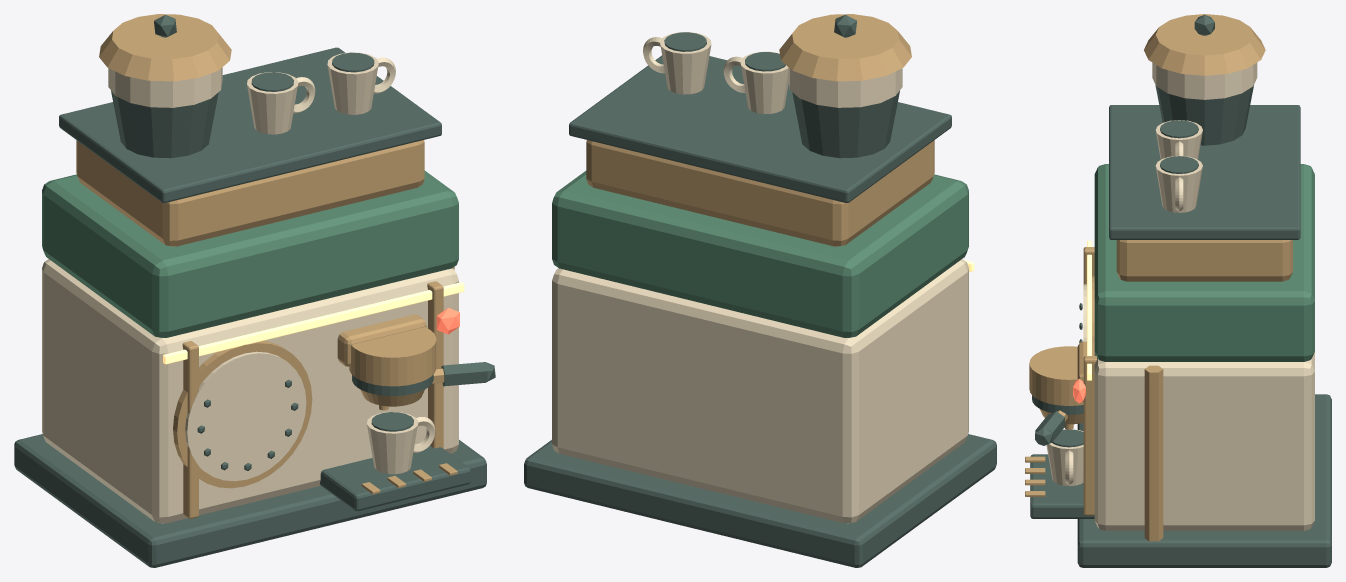
The model's file is common_machine_body.glb.
3 renders of one model, left to right at view 1: azimuth 30°, elevation 25°; view 2: azimuth 150°, elevation 25°; view 3: azimuth 270°, elevation 25°, orthographic. The views are drawn at different scales.
Visible parts, largest first — view 1: common_machine_body__common-ivory, common_machine_body__common-dark-timber, common_machine_body__common-sage, common_machine_body__common-brushed-brass, common_machine_body__machine-power-strip; view 2: common_machine_body__common-ivory, common_machine_body__common-dark-timber, common_machine_body__common-sage, common_machine_body__common-brushed-brass; view 3: common_machine_body__common-ivory, common_machine_body__common-dark-timber, common_machine_body__common-brushed-brass, common_machine_body__common-sage, common_machine_body__machine-power-strip.
Boxes of the visible parts, <box> form: common_machine_body__common-ivory: <box>42,52,458,523</box>; common_machine_body__common-dark-timber: <box>14,14,495,567</box>; common_machine_body__common-sage: <box>42,170,458,337</box>; common_machine_body__common-brushed-brass: <box>76,14,457,518</box>; common_machine_body__machine-power-strip: <box>163,282,464,364</box>; common_machine_body__common-ivory: <box>552,32,968,523</box>; common_machine_body__common-dark-timber: <box>524,14,996,567</box>; common_machine_body__common-sage: <box>552,171,968,337</box>; common_machine_body__common-brushed-brass: <box>586,14,934,246</box>; common_machine_body__common-ivory: <box>1046,62,1314,530</box>; common_machine_body__common-dark-timber: <box>1030,15,1331,567</box>; common_machine_body__common-brushed-brass: <box>1025,14,1292,541</box>; common_machine_body__common-sage: <box>1094,164,1314,361</box>; common_machine_body__machine-power-strip: <box>1087,240,1091,380</box>.
Size of the model in its own units: 2.13 by 2.88 by 1.81.
